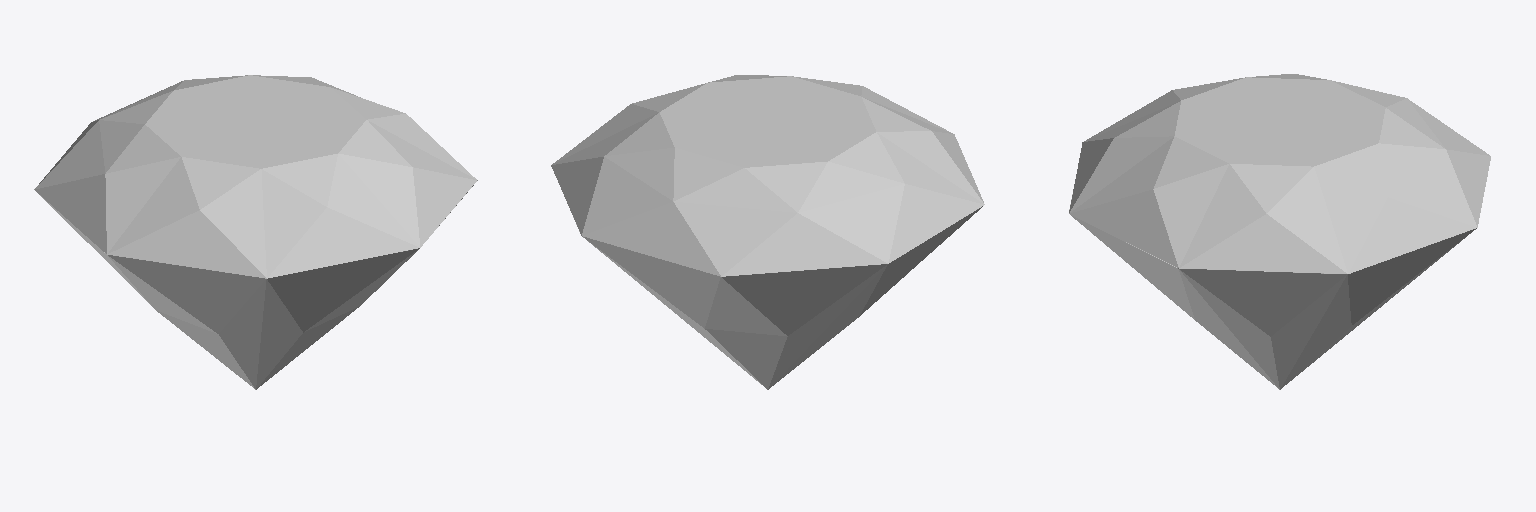
File: diamond.obj
The picture shows the model from 3 angles: view 1: azimuth 30°, elevation 25°; view 2: azimuth 150°, elevation 25°; view 3: azimuth 270°, elevation 25°; orthographic projection.
Parts seen in each view (by area): view 1: Diamond; view 2: Diamond; view 3: Diamond.
Part boxes in pixels (x1,y1,x2,y2): Diamond: (34, 75, 477, 389); Diamond: (551, 75, 984, 389); Diamond: (1069, 74, 1490, 389).
Size of the model in its own units: 16.75 by 11.71 by 16.75.